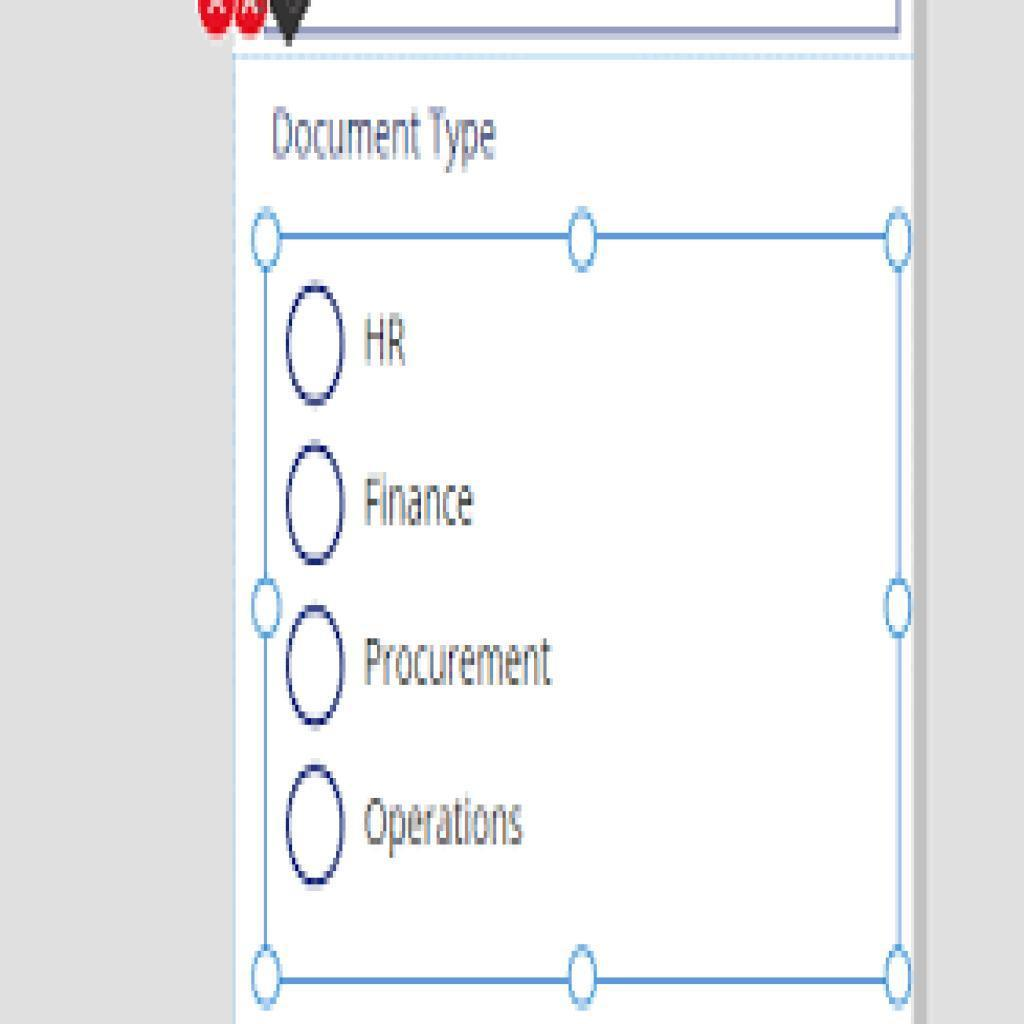label: (364, 629, 556, 702), (362, 787, 536, 853), (365, 471, 480, 538), (357, 304, 418, 375)
radio: (283, 764, 349, 888), (289, 602, 349, 730), (288, 443, 349, 567), (289, 283, 348, 407)
